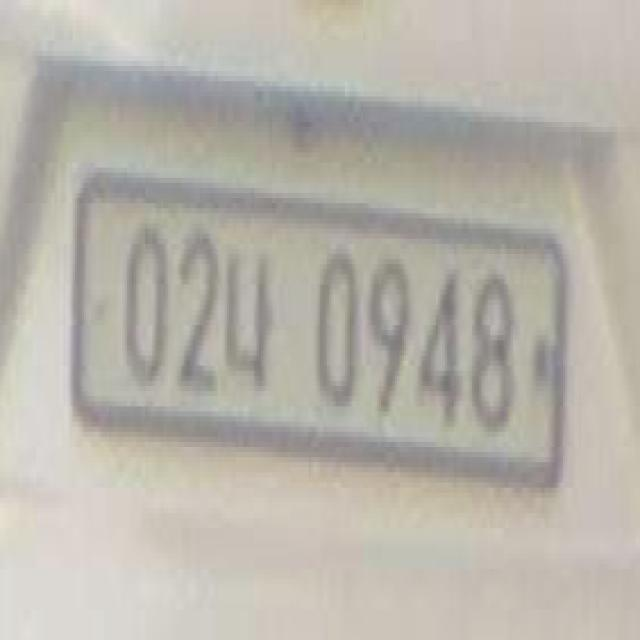illegal_plate: (76, 171, 568, 514)
